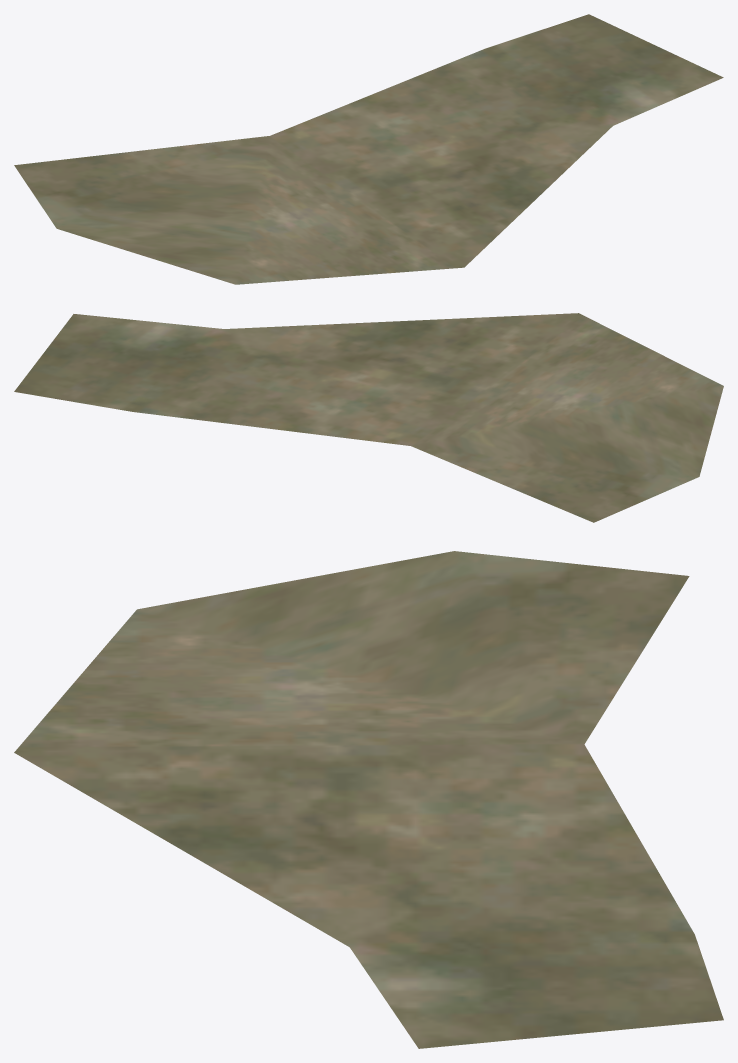
File: OVERHILL_A_01_GROUND26.fbx
3 views of the same model, one above another, from view 1: azimuth 30°, elevation 25°; view 2: azimuth 150°, elevation 25°; view 3: azimuth 270°, elevation 25° (orthographic). The views are drawn at different scales.
Visible parts, largest first — view 1: OVERHILL_A_01_GROUND26; view 2: OVERHILL_A_01_GROUND26; view 3: OVERHILL_A_01_GROUND26.
Part boxes in pixels (box(x1,y1,x2,y2)): OVERHILL_A_01_GROUND26: box(14, 14, 723, 284); OVERHILL_A_01_GROUND26: box(14, 313, 723, 522); OVERHILL_A_01_GROUND26: box(14, 551, 723, 1048).
Size of the model in its own units: 21809 by 16.41 by 13163.
1 material, 1 textured.
